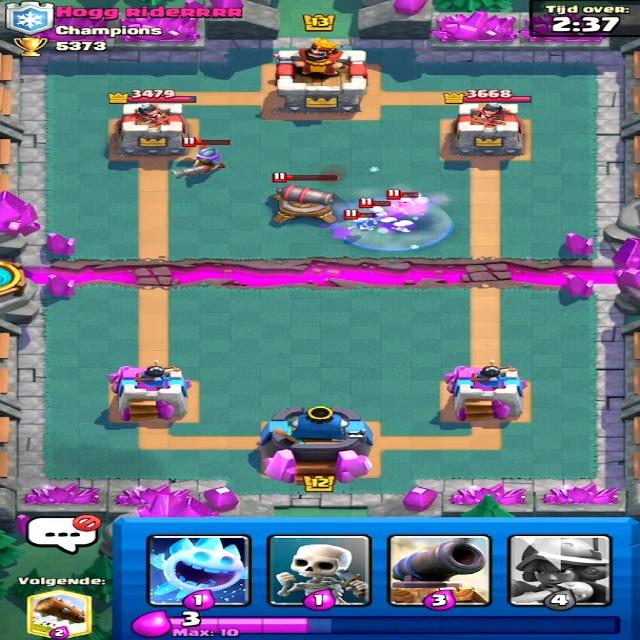Cannon_Card: (388, 536, 489, 606)
Enemy_Cannon_Troop: (262, 184, 345, 230)
Enemy_Musketeer_Troop: (165, 141, 228, 184)
Enemy_Skeleton_Troop: (391, 194, 420, 216), (344, 217, 373, 235), (366, 203, 387, 220)
Ice_Spirit_Card: (145, 536, 253, 609)
Musketeer_Card: (510, 534, 611, 604)
Skeleton_Card: (270, 534, 368, 603)
